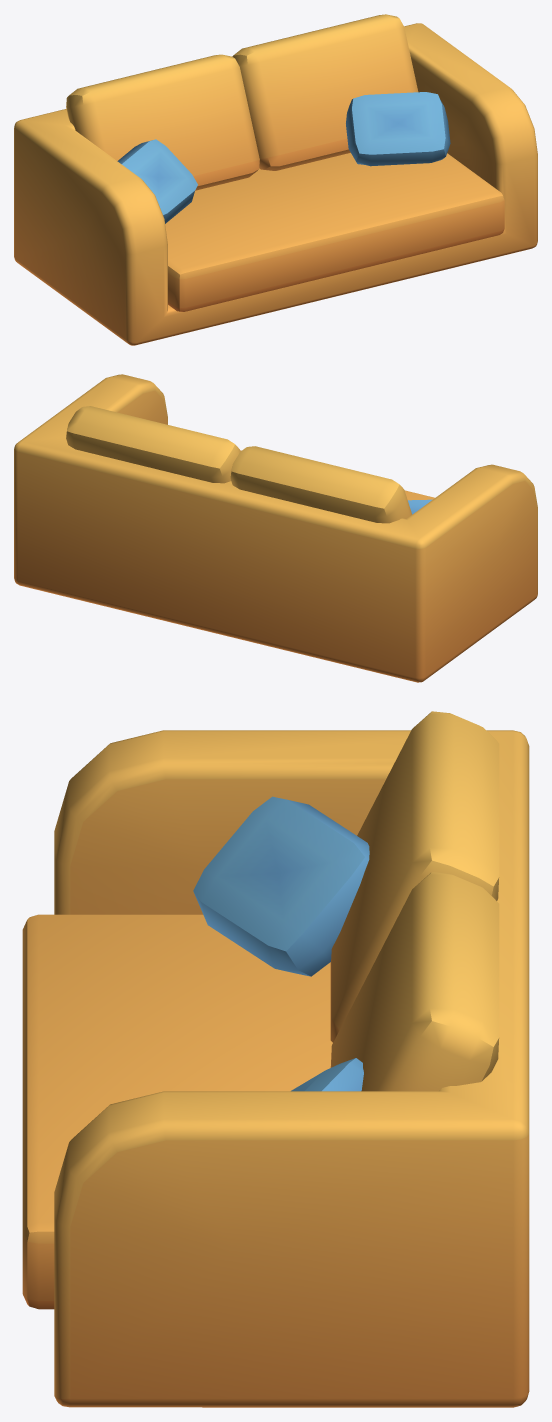
File: couch_pillows.glb
3 renders of one model, top to bottom at view 1: azimuth 30°, elevation 25°; view 2: azimuth 150°, elevation 25°; view 3: azimuth 270°, elevation 25°, orthographic. The views are drawn at different scales.
Visible parts, largest first — view 1: couch_pillows; view 2: couch_pillows; view 3: couch_pillows.
Boxes of the visible parts, <box> form: couch_pillows: <box>14,14,537,345</box>; couch_pillows: <box>14,374,537,682</box>; couch_pillows: <box>22,711,529,1407</box>.
Size of the model in its own units: 3 by 1.22 by 1.6.
Materials: 1 (1 with a texture image).
